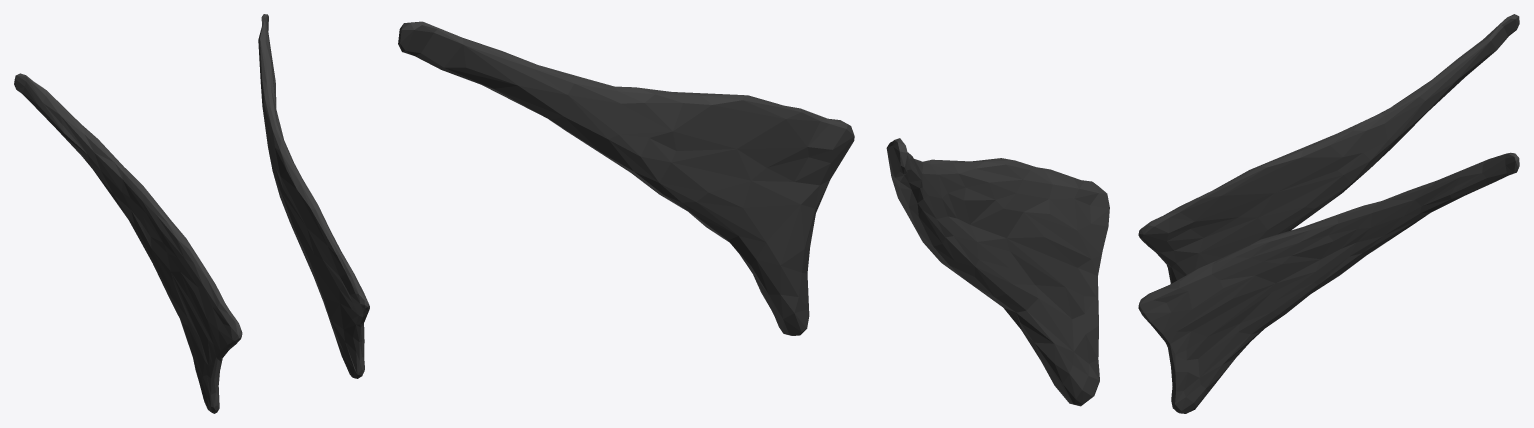
Rendered from m_caninus.glb.
3 renders of one model, left to right at view 1: azimuth 30°, elevation 25°; view 2: azimuth 150°, elevation 25°; view 3: azimuth 270°, elevation 25°, orthographic. The views are drawn at different scales.
Visible parts, largest first — view 1: m_caninus; view 2: m_caninus; view 3: m_caninus.
Boxes of the visible parts, <box> form: m_caninus: <box>14,14,369,413</box>; m_caninus: <box>398,21,1109,406</box>; m_caninus: <box>1138,14,1519,413</box>.
Size of the model in its own units: 0.00273 by 0.00254 by 0.00304.
Materials: 1 (1 with a texture image).
